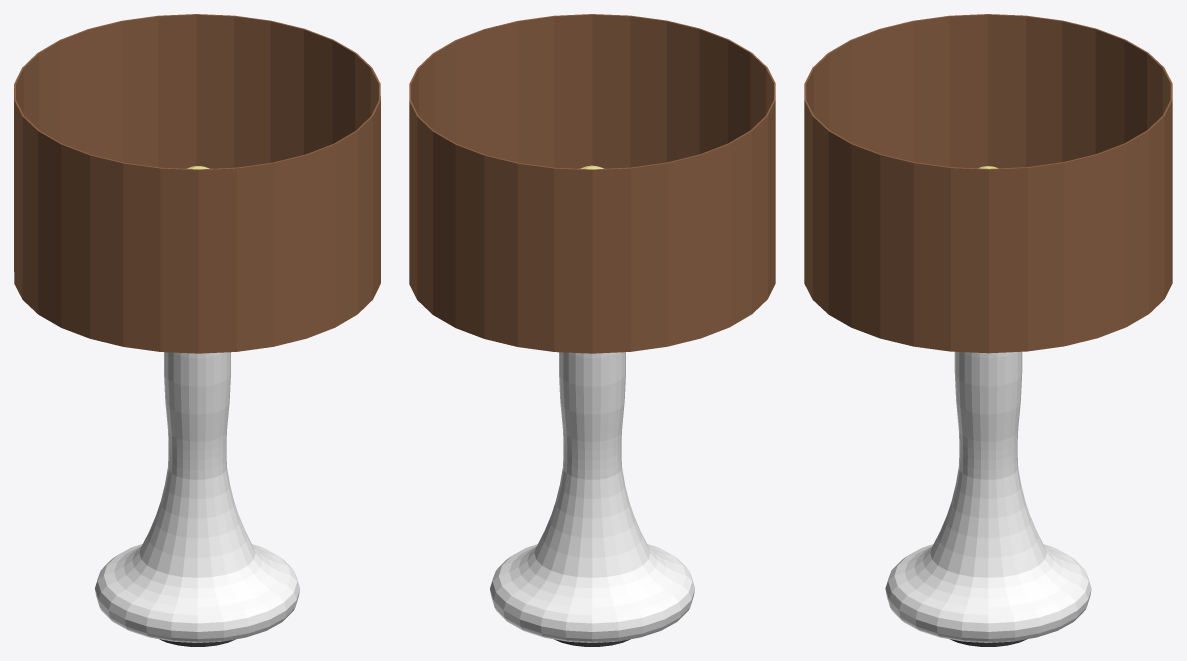
Rendered from small lamp.dae.
The picture shows the model from 3 angles, left to right: view 1: azimuth 30°, elevation 25°; view 2: azimuth 150°, elevation 25°; view 3: azimuth 270°, elevation 25°; orthographic projection.
Parts seen in each view (by area): view 1: SketchUp (×3); view 2: SketchUp (×3); view 3: SketchUp (×3).
Part boxes in pixels (x1=…): SketchUp (×3): x1=14, y1=14, x2=380, y2=642; SketchUp (×3): x1=409, y1=14, x2=775, y2=642; SketchUp (×3): x1=804, y1=14, x2=1172, y2=642.
Bounding box in the file's own units: 15.75 × 15.75 × 25.2.
Materials: 6 (6 with a texture image).
